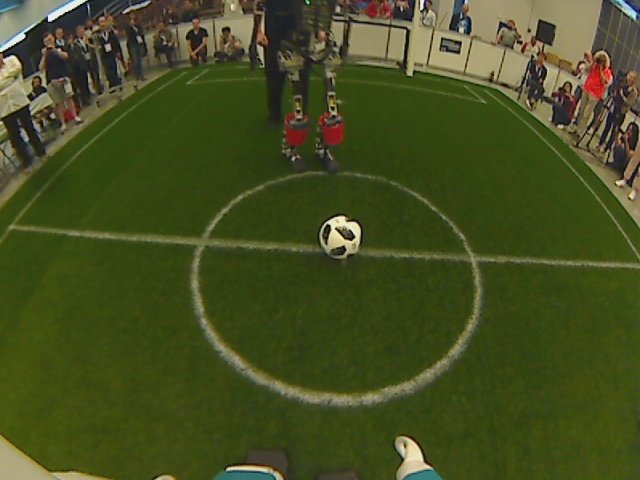ball: (317, 213, 367, 261)
